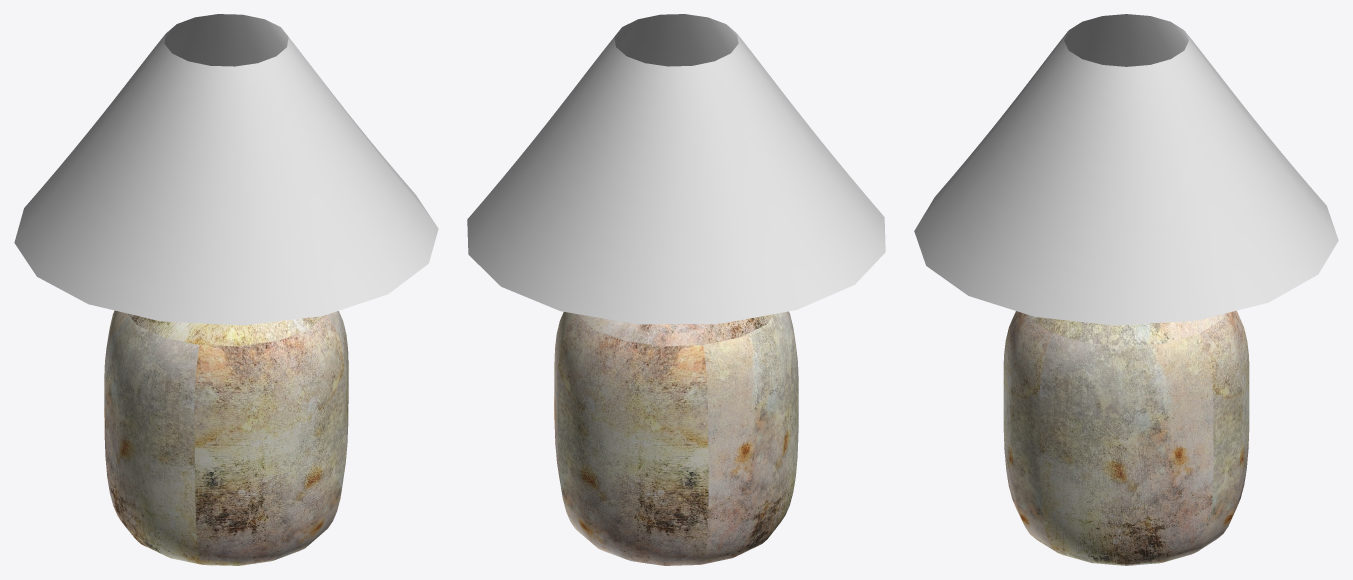
The model's file is lamparaMesa.fbx.
The picture shows the model from 3 angles, left to right: view 1: azimuth 30°, elevation 25°; view 2: azimuth 150°, elevation 25°; view 3: azimuth 270°, elevation 25°; orthographic projection.
Visible parts, largest first — view 1: BézierCurve.002; view 2: BézierCurve.002; view 3: BézierCurve.002.
Boxes of the visible parts, <box> form: BézierCurve.002: <box>14,14,438,565</box>; BézierCurve.002: <box>467,14,885,565</box>; BézierCurve.002: <box>914,14,1338,565</box>.
Size of the model in its own units: 357 by 461 by 357.
